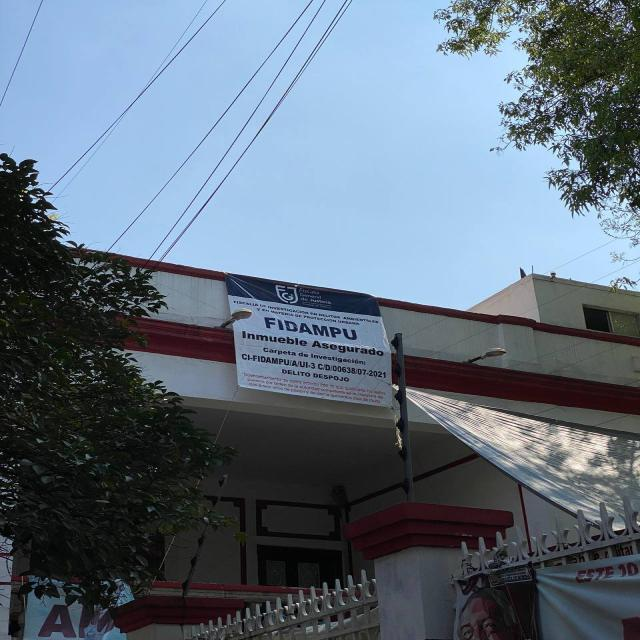stamps: (229, 272, 391, 407)
